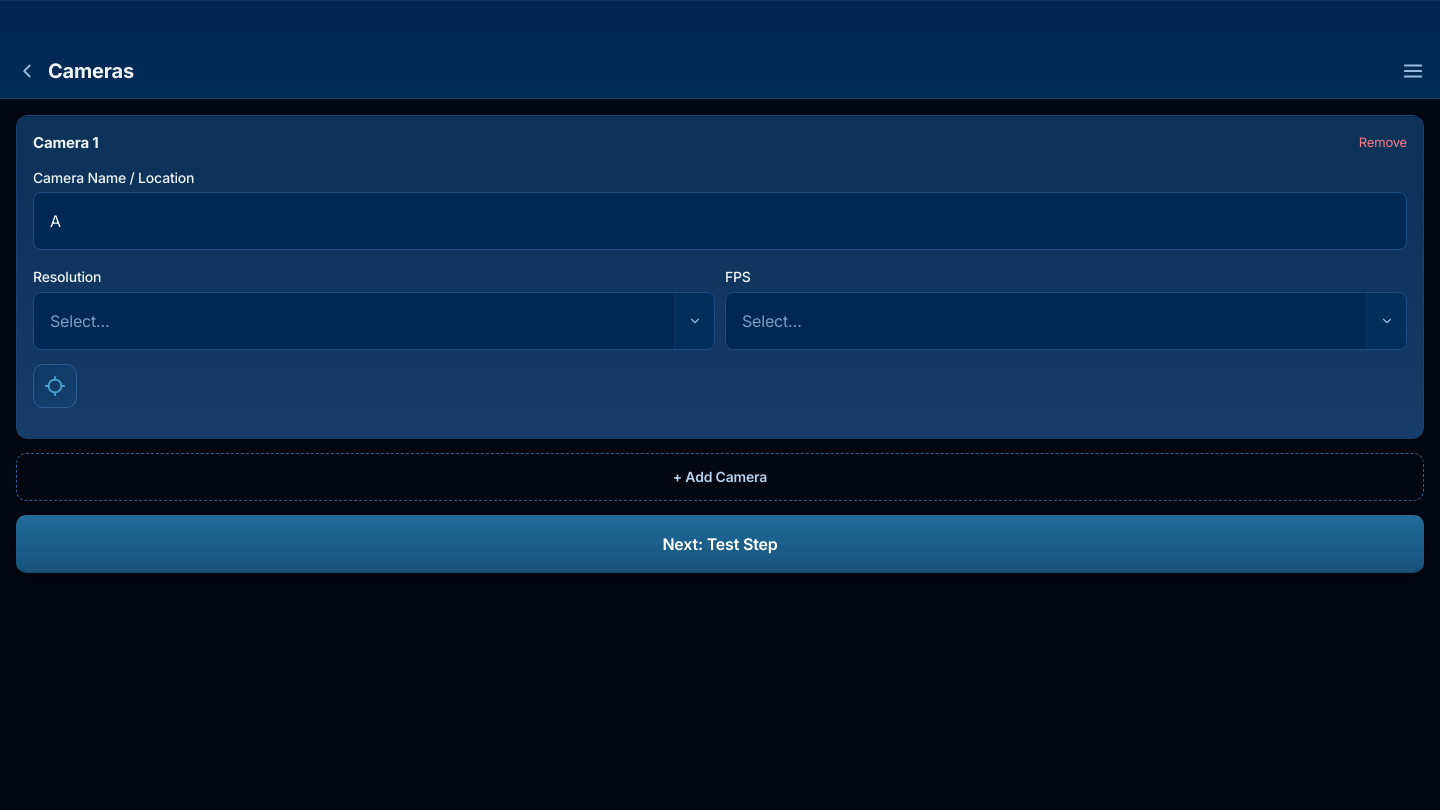
Test case: Cameras custom Resolution/FPS path (phone cameras.tsx:43-61) › switching back to a standard value writes it and hides the input
Click the button named "Resolution": (80, 321) top-left (33, 292), bottom-right (715, 350)
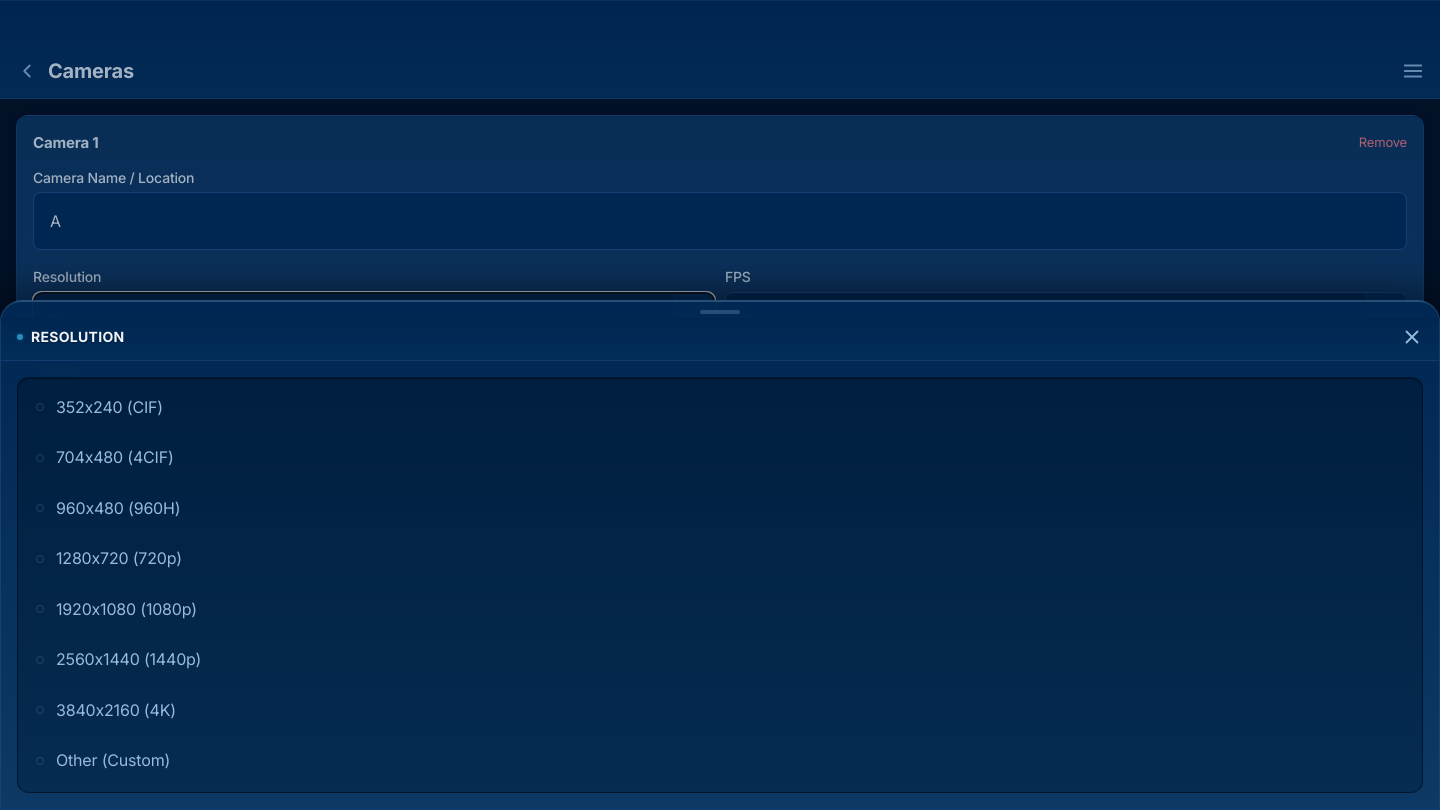
Click the menu item "Other (Custom)": (113, 760) top-left (23, 736), bottom-right (1417, 785)
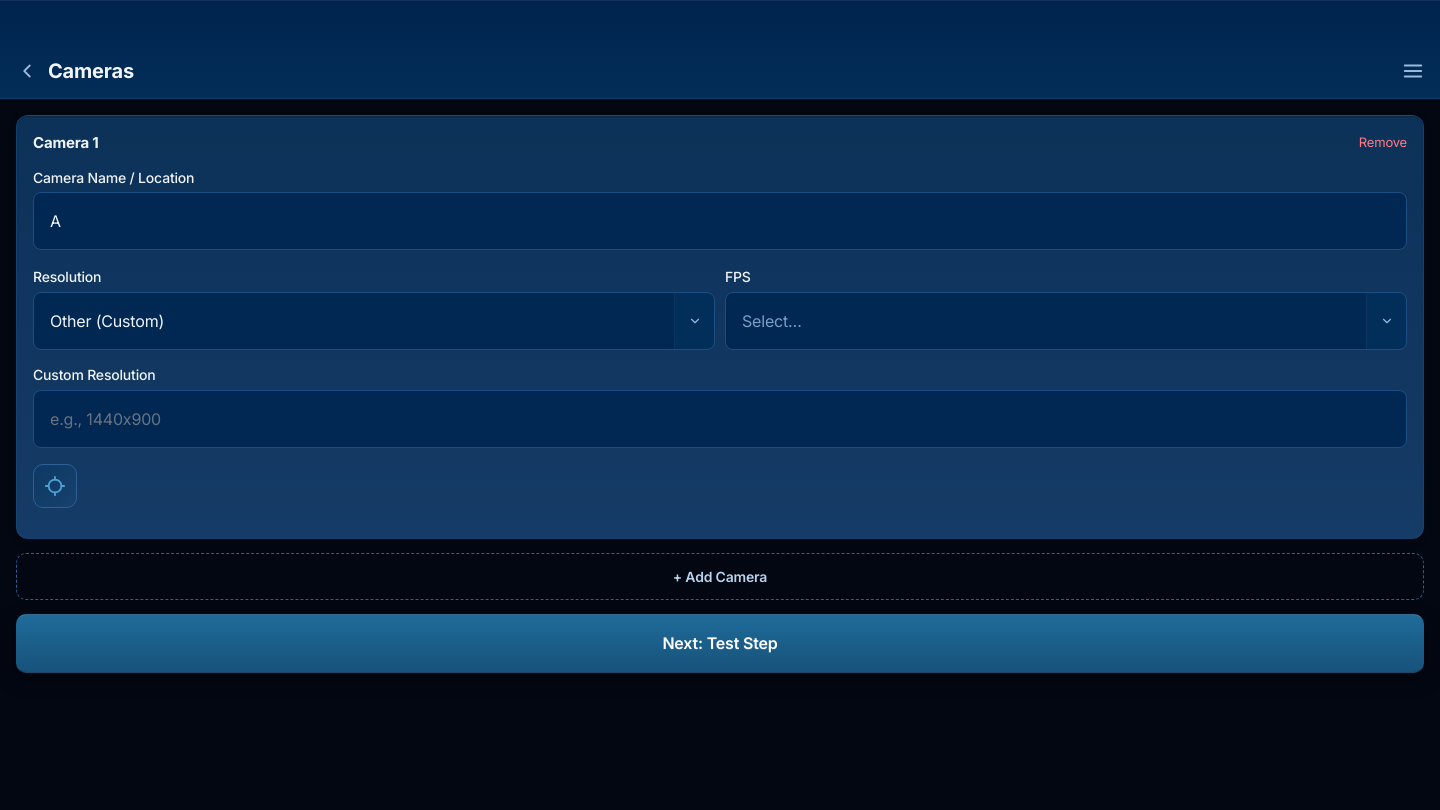
Expected: the field named "Custom Resolution" is shown, top-left (33, 390), bottom-right (1407, 448)
Click the button named "Resolution": (107, 321) top-left (33, 292), bottom-right (715, 350)
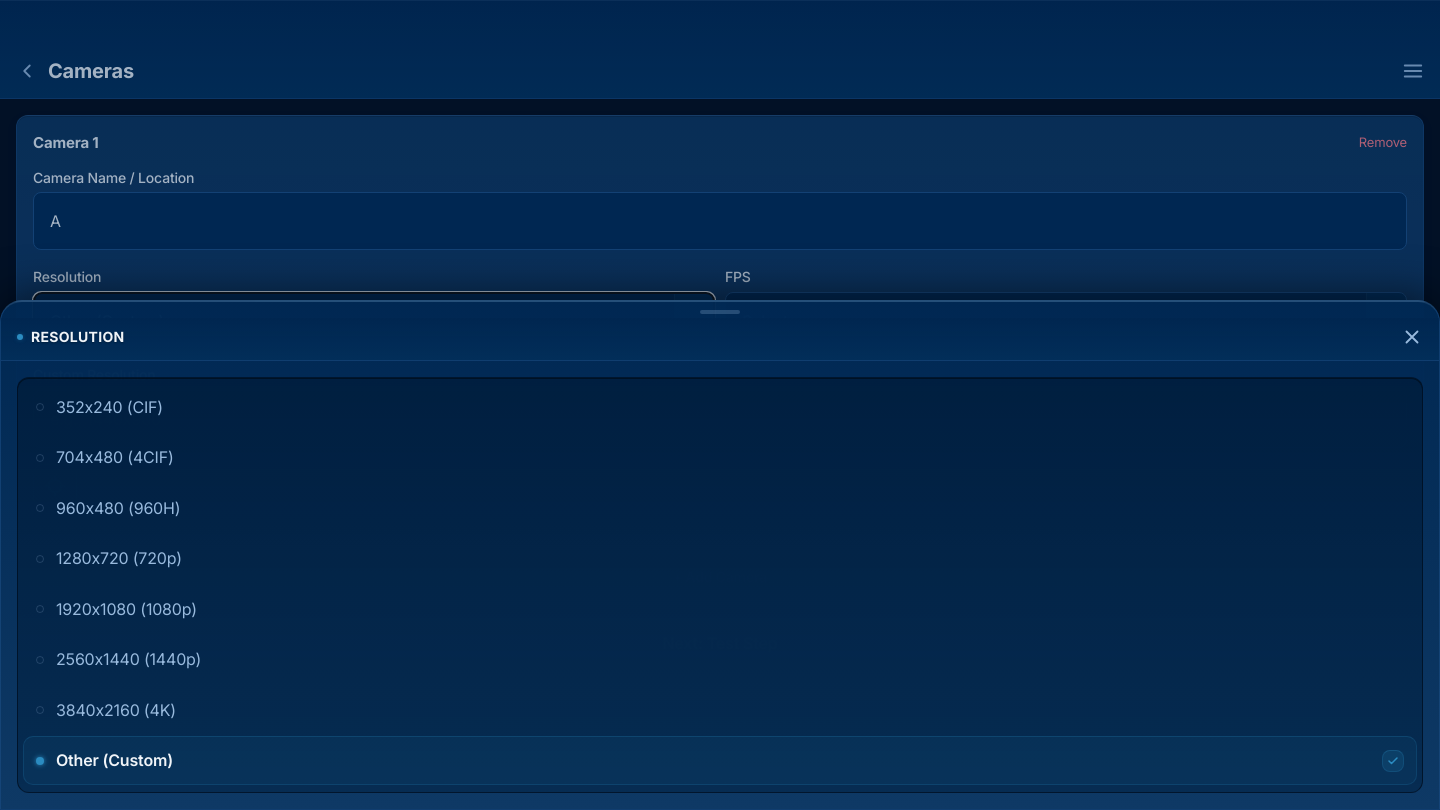
Click the menu item "704x480 (4CIF)": (115, 457) top-left (23, 433), bottom-right (1417, 482)
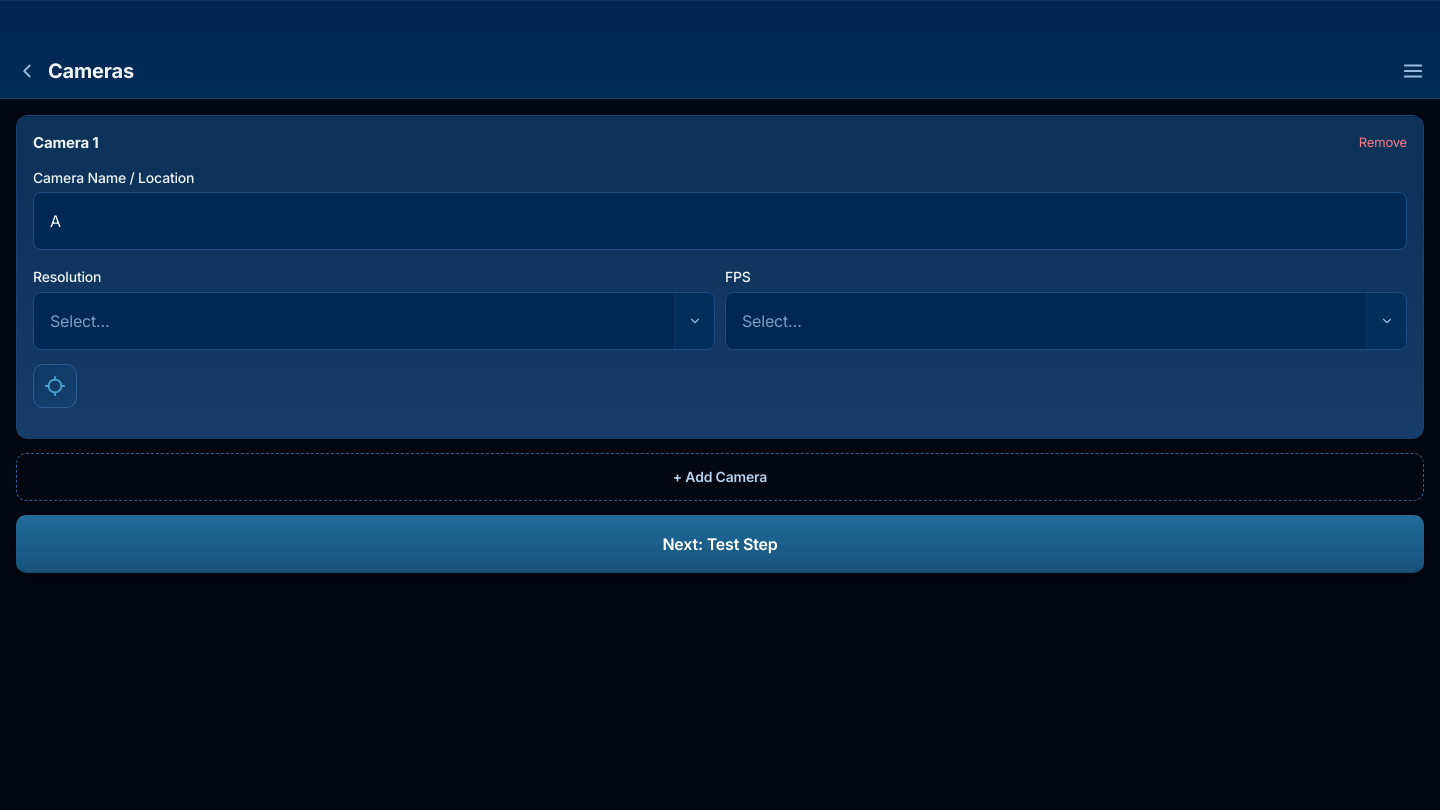
Expected: the text labelled "Custom Resolution" is gone
